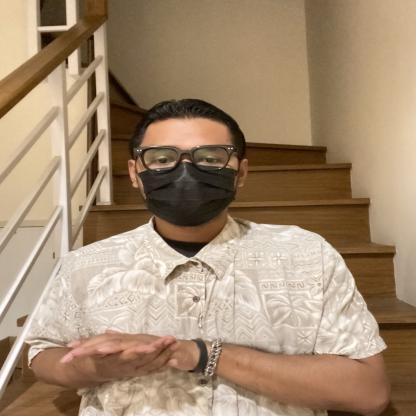Love: (39, 307, 265, 393)
